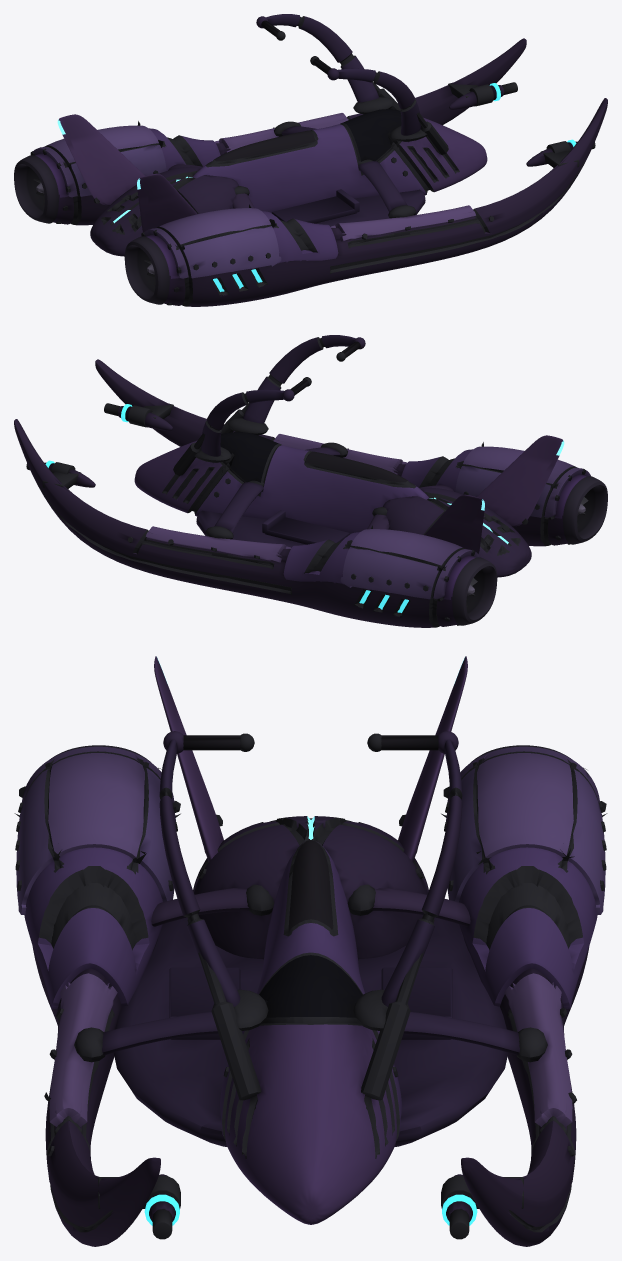
The model's file is skimmer.glb.
The picture shows the model from 3 angles, top to bottom: view 1: azimuth 30°, elevation 25°; view 2: azimuth 150°, elevation 25°; view 3: azimuth 270°, elevation 25°; orthographic projection. The views are drawn at different scales.
Visible parts, largest first — view 1: skimmer; view 2: skimmer; view 3: skimmer.
Part boxes in pixels (left/top/right/bottom): skimmer: left=14, top=14, right=607, bottom=306; skimmer: left=14, top=335, right=607, bottom=627; skimmer: left=14, top=656, right=607, bottom=1246.
Bounding box in the file's own units: 3.01 × 1.13 × 1.68.
